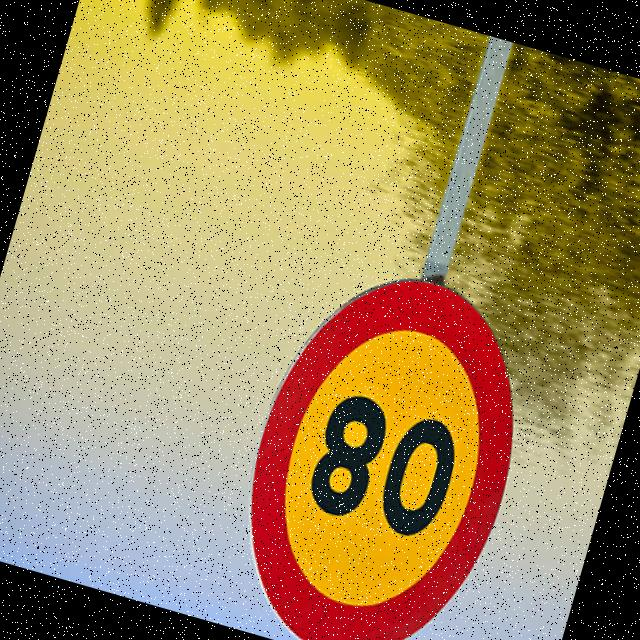speed_limit_80: (205, 241, 560, 640)
